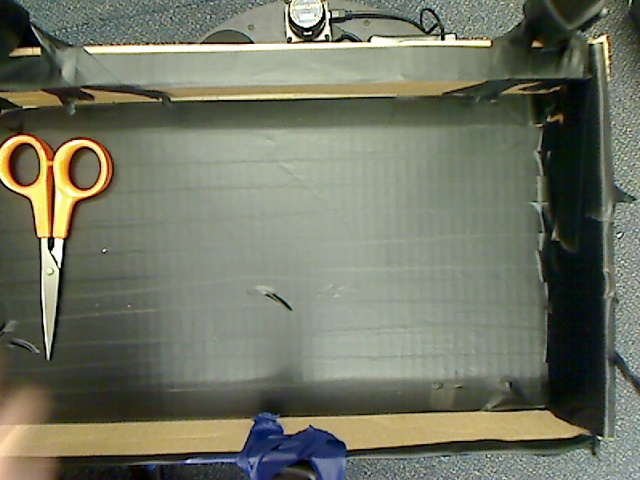scissors: (1, 121, 126, 367)
